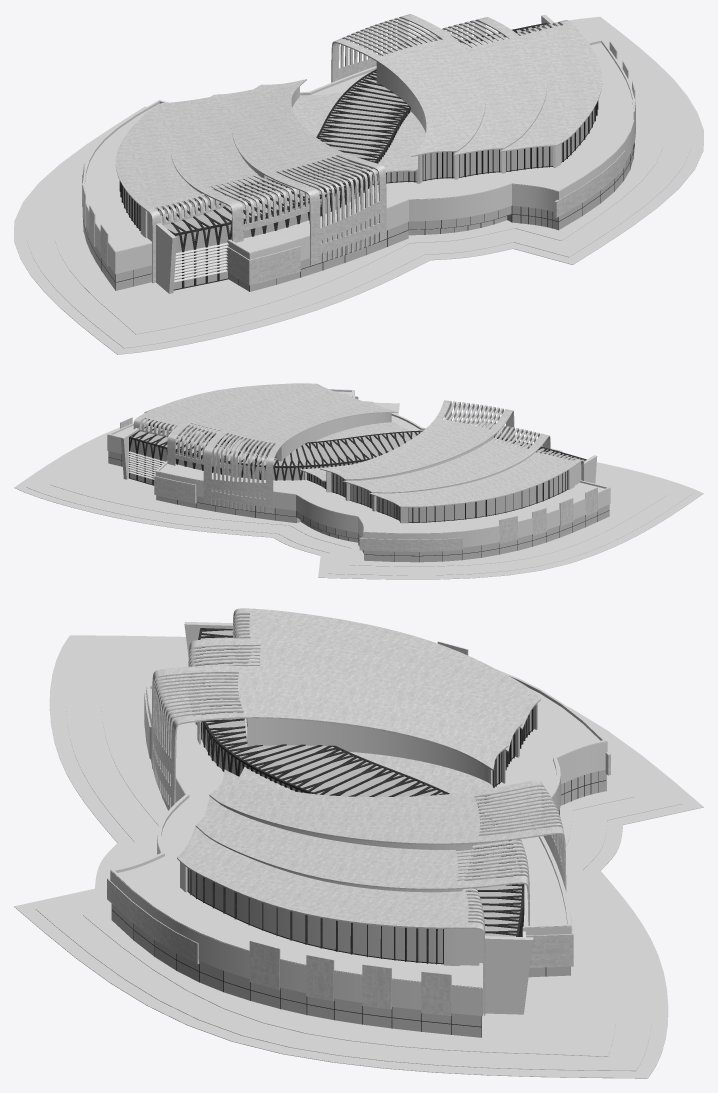
Rendered from KB3D_UTP_BldgSM_I.fbx.
The picture shows the model from 3 angles, top to bottom: view 1: azimuth 30°, elevation 25°; view 2: azimuth 150°, elevation 25°; view 3: azimuth 270°, elevation 25°; orthographic projection. The views are drawn at different scales.
Parts seen in each view (by area): view 1: KB3D_UTP_BldgSM_I_Main, KB3D_UTP_BldgSM_I_Base; view 2: KB3D_UTP_BldgSM_I_Main, KB3D_UTP_BldgSM_I_Base; view 3: KB3D_UTP_BldgSM_I_Main, KB3D_UTP_BldgSM_I_Base.
Part boxes in pixels (bbox=[...]): KB3D_UTP_BldgSM_I_Main: bbox=[82, 14, 635, 293]; KB3D_UTP_BldgSM_I_Base: bbox=[14, 16, 703, 354]; KB3D_UTP_BldgSM_I_Main: bbox=[107, 383, 610, 562]; KB3D_UTP_BldgSM_I_Base: bbox=[14, 402, 703, 579]; KB3D_UTP_BldgSM_I_Main: bbox=[107, 608, 610, 1037]; KB3D_UTP_BldgSM_I_Base: bbox=[14, 635, 703, 1078].
Bounding box in the file's own units: 33555 × 3749 × 22091.
